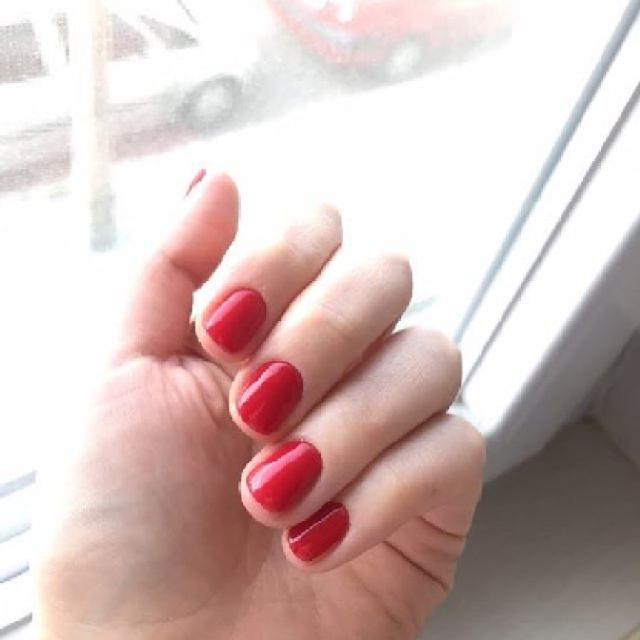Nail: (246, 439, 322, 512), (236, 360, 304, 435), (204, 289, 266, 352), (288, 501, 349, 560)
